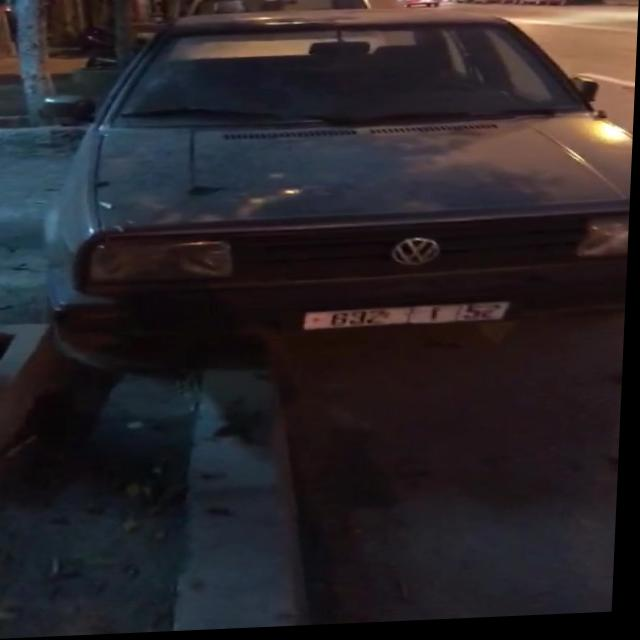License-Plate: (306, 307, 512, 333)
